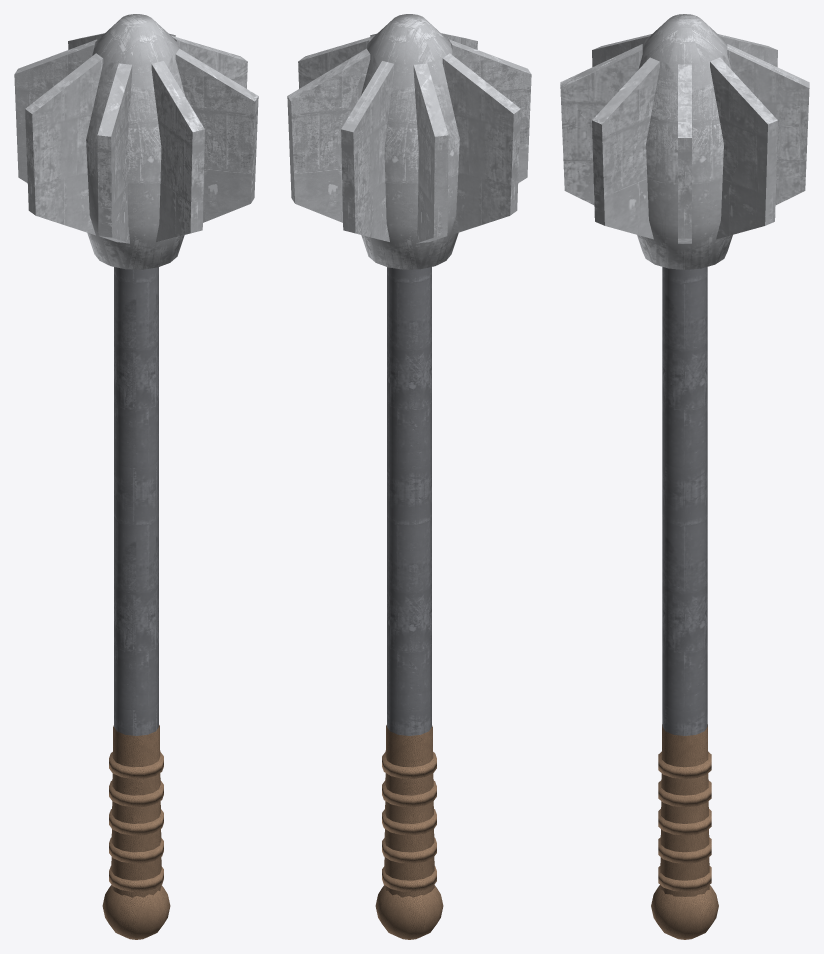
File: g_mace_1h.glb
The picture shows the model from 3 angles, left to right: view 1: azimuth 30°, elevation 25°; view 2: azimuth 150°, elevation 25°; view 3: azimuth 270°, elevation 25°; orthographic projection.
Parts seen in each view (by area): view 1: g_mace_1h; view 2: g_mace_1h; view 3: g_mace_1h.
Boxes of the visible parts, <box> form: g_mace_1h: <box>14,14,258,939</box>; g_mace_1h: <box>287,14,531,939</box>; g_mace_1h: <box>560,14,809,939</box>.
Bounding box in the file's own units: 0.2328 × 0.9443 × 0.2328.
Materials: 3 (3 with a texture image).
